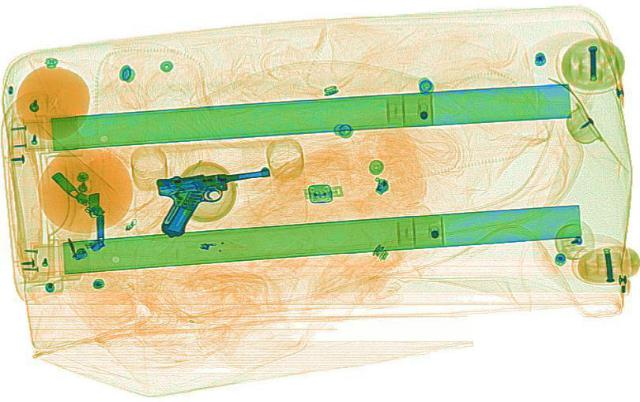Gun: (139, 163, 291, 235)
